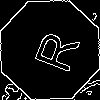R: (25, 25, 81, 75)
